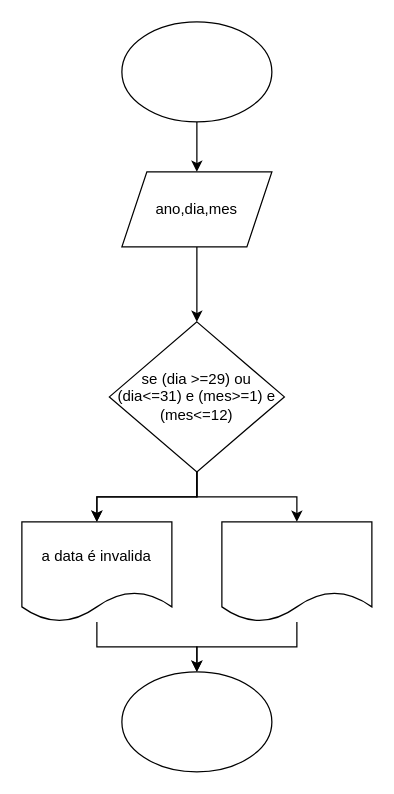
This 394x794 diagram has some shape labels left out. Here are the shapes that lost their labels. From the top down, the centre of each, then its label:
(x=196, y=71): Ínicio
(x=296, y=571): a data é valida
